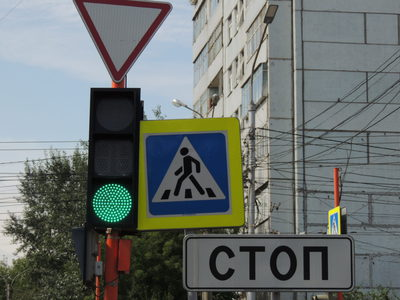crosswalk: (147, 134, 230, 213)
trafficlight_green: (89, 88, 137, 225)
